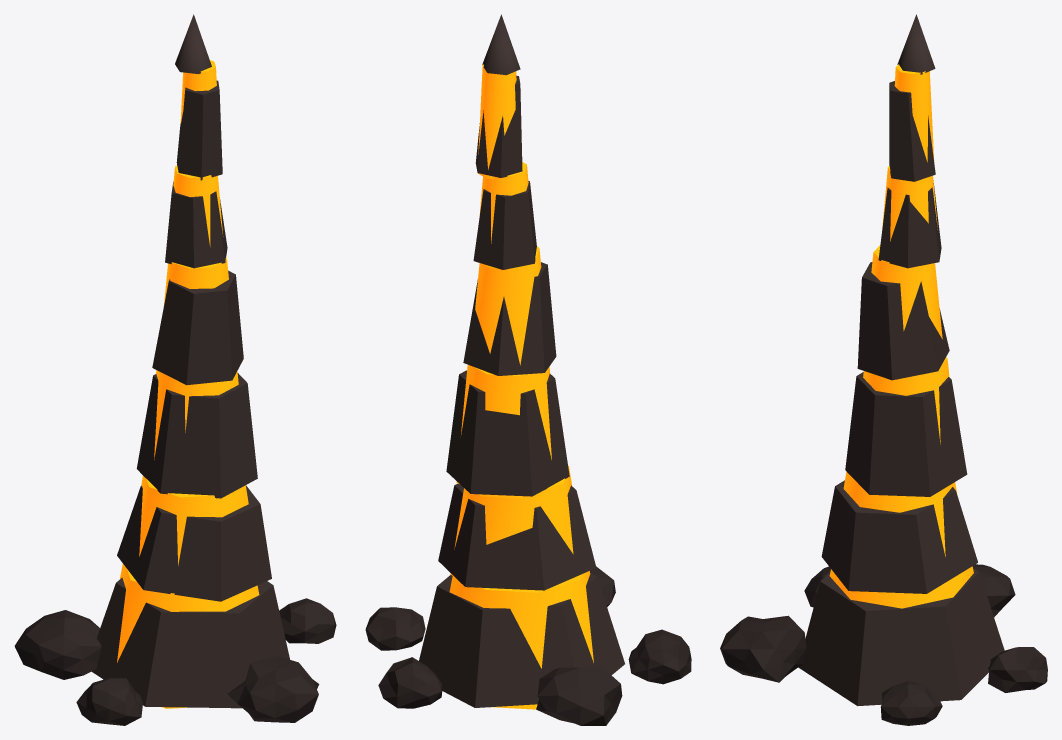
The model's file is Lava_Spire.glb.
3 views of the same model, side by side, from view 1: azimuth 30°, elevation 25°; view 2: azimuth 150°, elevation 25°; view 3: azimuth 270°, elevation 25° (orthographic).
Visible parts, largest first — view 1: Rock, Rubble, Magma; view 2: Rock, Magma, Rubble; view 3: Rock, Magma, Rubble.
Part boxes in pixels (box(x1,y1,x2,y2)): Rock: box(91, 14, 289, 708); Rubble: box(14, 598, 336, 725); Magma: box(117, 60, 259, 708); Rock: box(419, 14, 624, 707); Magma: box(449, 64, 593, 709); Rubble: box(365, 566, 691, 725); Rock: box(798, 14, 1004, 706); Magma: box(829, 64, 973, 608); Rubble: box(720, 564, 1047, 725).
Size of the model in its own units: 5.6 by 12.5 by 5.65.
